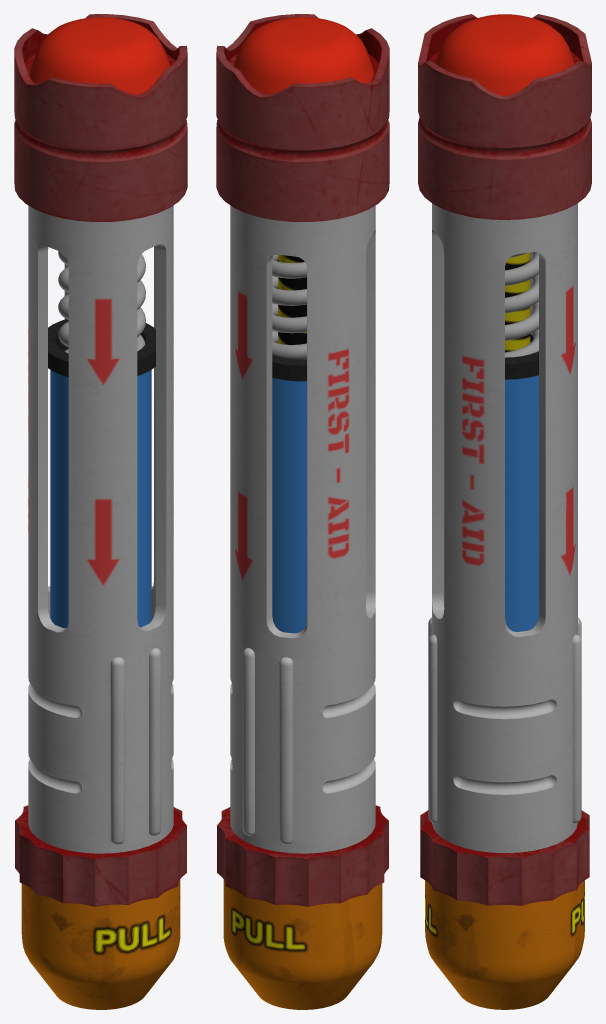
Rendered from Stimpack.fbx.
3 views of the same model, side by side, from view 1: azimuth 30°, elevation 25°; view 2: azimuth 150°, elevation 25°; view 3: azimuth 270°, elevation 25° (orthographic).
Visible parts, largest first — view 1: Body, Cap; view 2: Body, Cap; view 3: Body, Cap.
Part boxes in pixels (bbox=[...]): Body: bbox=[14, 14, 187, 906]; Cap: bbox=[21, 879, 180, 1009]; Body: bbox=[216, 14, 389, 906]; Cap: bbox=[223, 879, 382, 1009]; Body: bbox=[418, 14, 591, 905]; Cap: bbox=[425, 880, 584, 1009].
Size of the model in its own units: 292 by 1780 by 292.
1 material, 1 textured.
